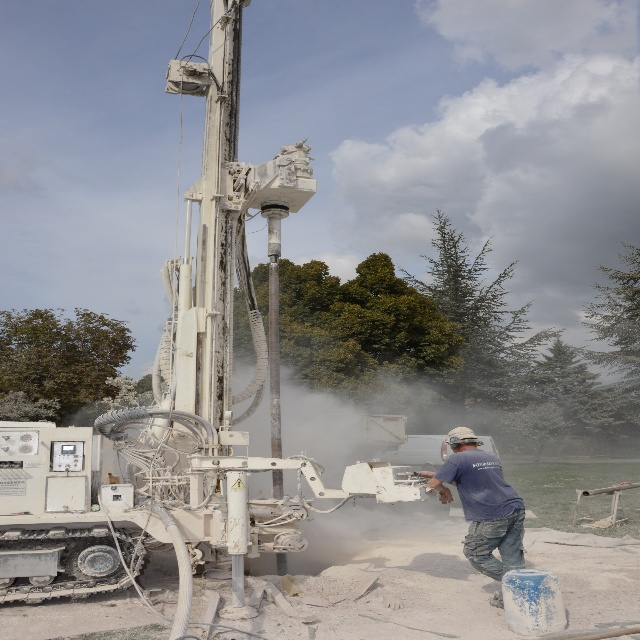Sin_guantes: (439, 486, 454, 504)
